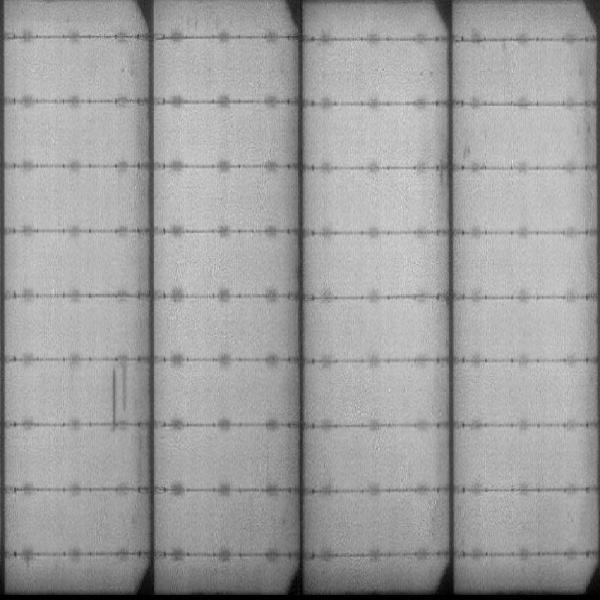scratch: (107, 366, 123, 428)
